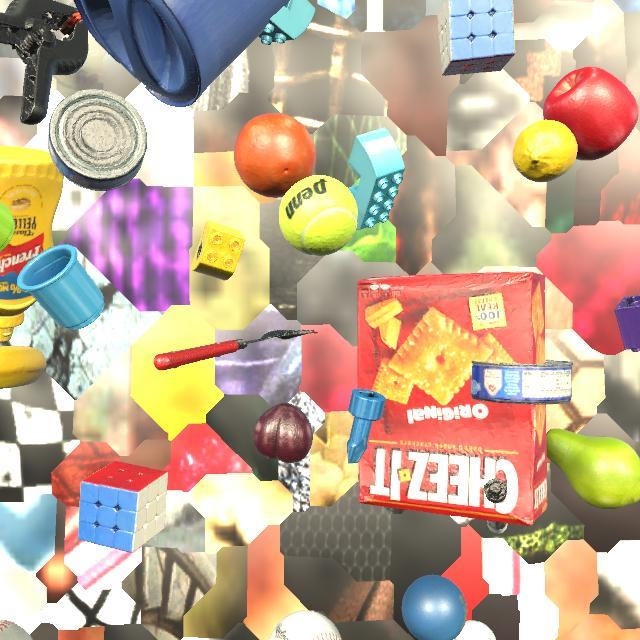ycb_003_cracker_box: (357, 271, 547, 526)
ycb_006_mustard_bottle: (0, 146, 64, 342)
ycb_007_tuna_fish_can: (48, 89, 148, 191), (471, 359, 573, 405)
ycb_011_banana: (0, 346, 47, 389)
ycb_013_apple: (543, 66, 639, 161)
ycb_014_lemon: (512, 120, 578, 182)
ycb_016_pear: (546, 428, 640, 509)
ycb_017_orange: (234, 113, 316, 198)
ycb_018_plum: (253, 403, 313, 463)
